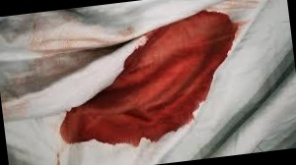blood: (76, 15, 248, 150)
